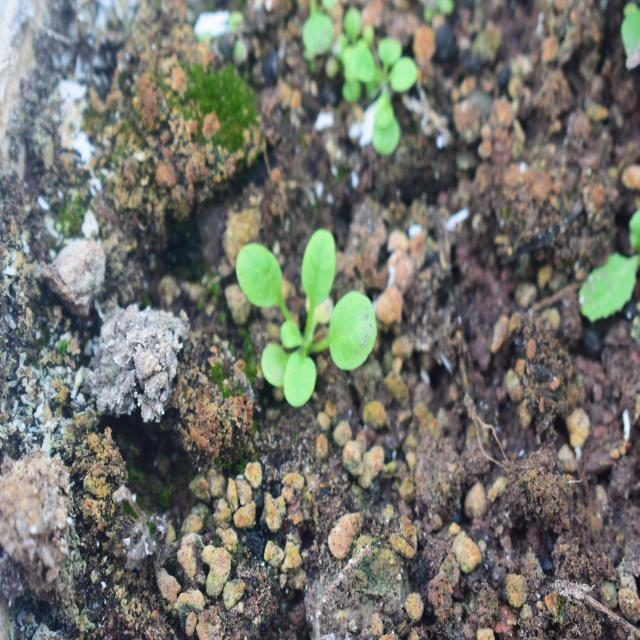Shepherd_Purse: (217, 210, 384, 411)
